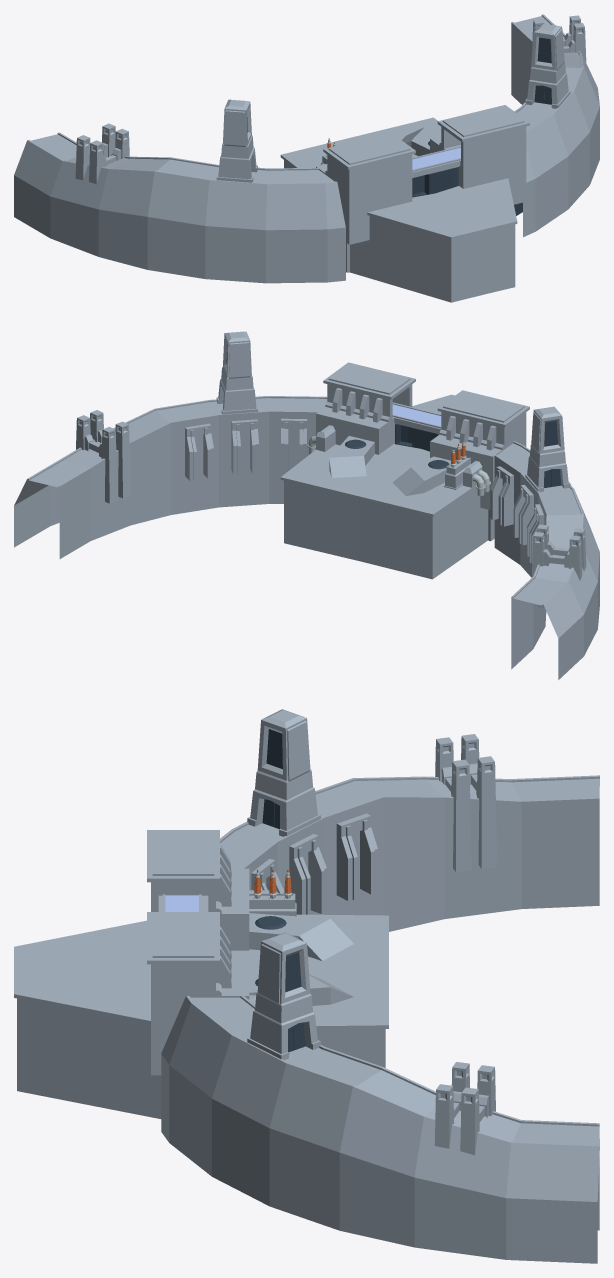
Rendered from Dam_checkout.fbx.
3 renders of one model, top to bottom at view 1: azimuth 30°, elevation 25°; view 2: azimuth 150°, elevation 25°; view 3: azimuth 270°, elevation 25°, orthographic. The views are drawn at different scales.
Parts seen in each view (by area): view 1: 柱体.045, 平面.062, 立方体.126, 立方体.133, 立方体.124, 立方体.127, 柱体.032, 立方体.128; view 2: 柱体.045, 平面.062, 立方体.126, 立方体.133, 立方体.124, 立方体.128, 立方体.122, 立方体.120, 立方体.123, 立方体.131, 立方体.127, 立方体.129 (+3 smaller); view 3: 柱体.045, 平面.062, 立方体.126, 立方体.133, 立方体.124, 立方体.128, 立方体.123, 立方体.120, 平面.070.
Boxes of the visible parts, x1,y1,x2,y2 form: 柱体.045: (14,14,599,283); 平面.062: (280,117,517,302); 立方体.126: (316,105,529,244); 立方体.133: (216,23,570,182); 立方体.124: (75,15,586,183); 立方体.127: (412,146,460,177); 柱体.032: (412,167,522,215); 立方体.128: (402,127,440,156); 柱体.045: (14,396,599,679); 平面.062: (280,394,494,579); 立方体.126: (316,362,529,509); 立方体.133: (216,331,570,492); 立方体.124: (76,410,586,607); 立方体.128: (329,436,451,495); 立方体.122: (281,418,513,526); 立方体.120: (231,419,533,545); 立方体.123: (185,423,544,563); 立方体.131: (307,425,490,495); 立方体.127: (392,403,441,434); 立方体.129: (332,388,382,422); 柱体.045: (161,775,599,1263); 平面.062: (14,914,388,1118); 立方体.126: (147,830,249,1075); 立方体.133: (247,709,320,1059); 立方体.124: (434,734,497,1155); 立方体.128: (249,913,353,1005); 立方体.123: (336,813,377,900); 立方体.120: (289,834,326,914); 平面.070: (249,893,296,916).
Bounding box in the file's own units: 14443 × 9142 × 4137.
